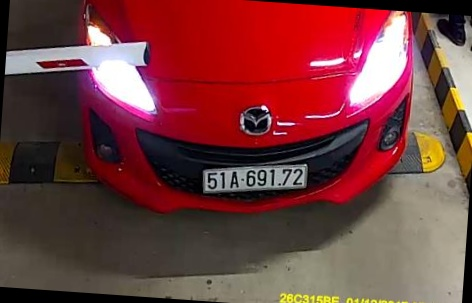plate: (197, 155, 323, 200)
